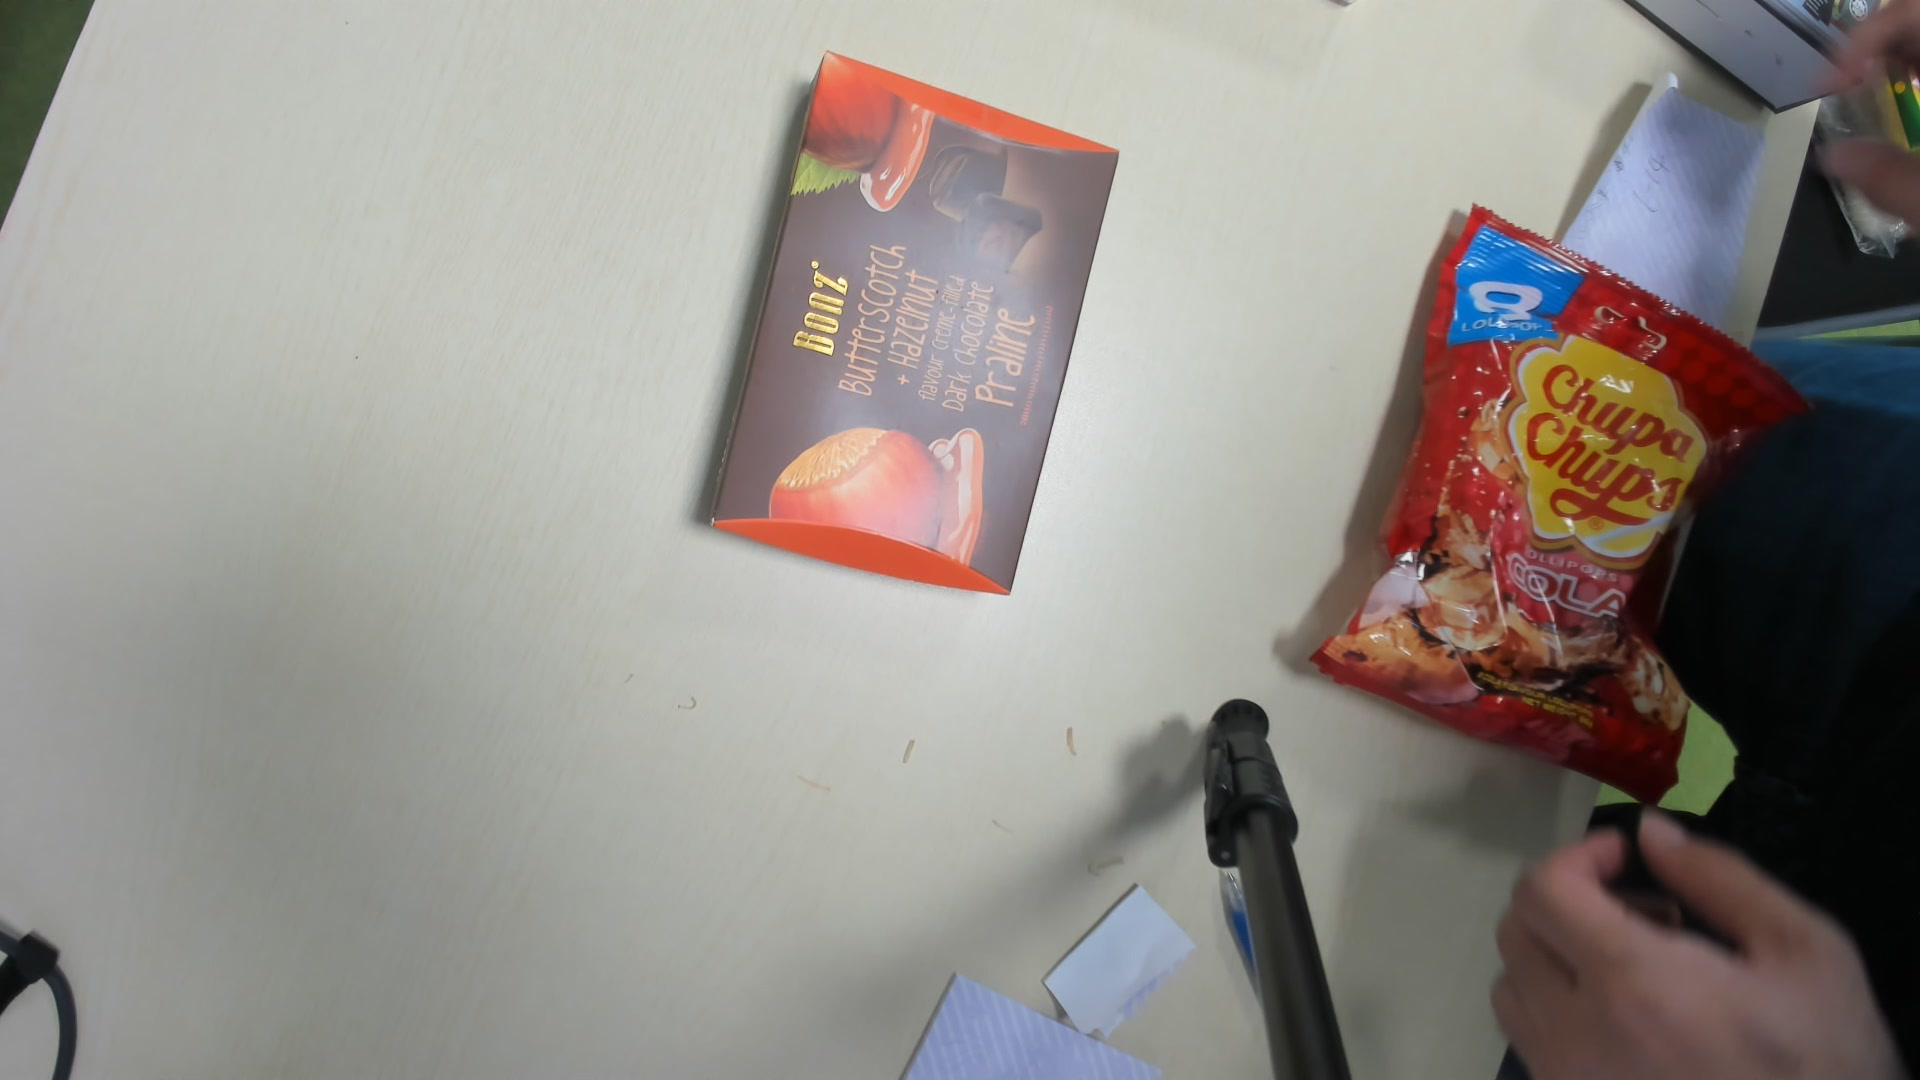SweetsChocolatesOthers_0-99g_NonHalal_Nonhealthy: (723, 69, 1116, 603)
